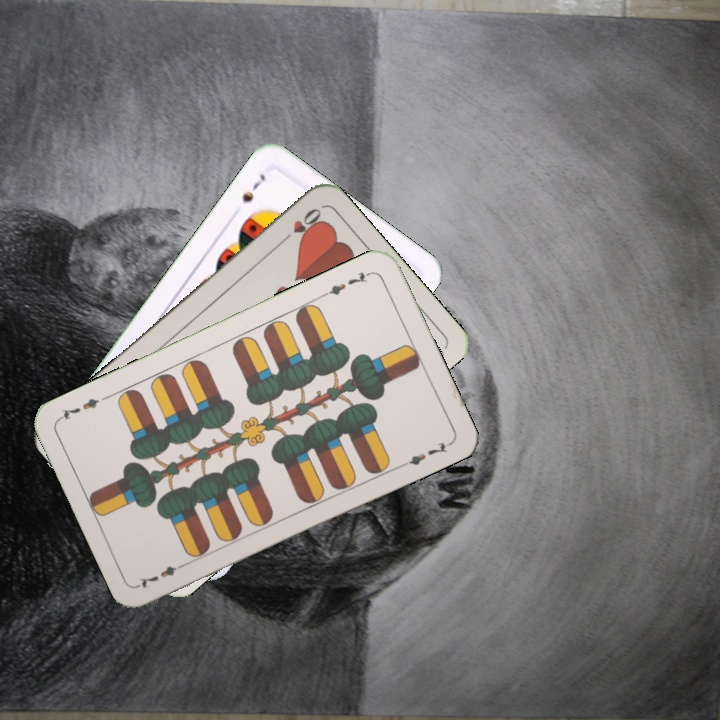E7: (134, 558, 190, 591), (319, 267, 375, 299)
HO: (276, 203, 324, 247)
S7: (237, 169, 268, 205)
